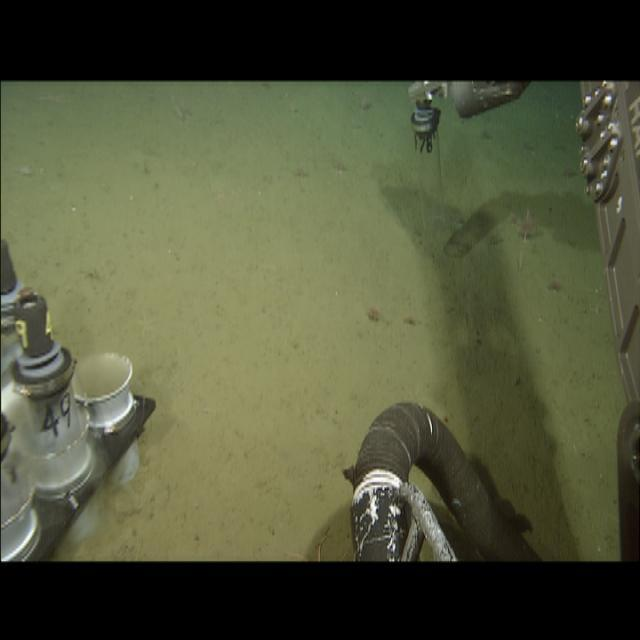Brittle Star: (132, 307, 159, 342)
